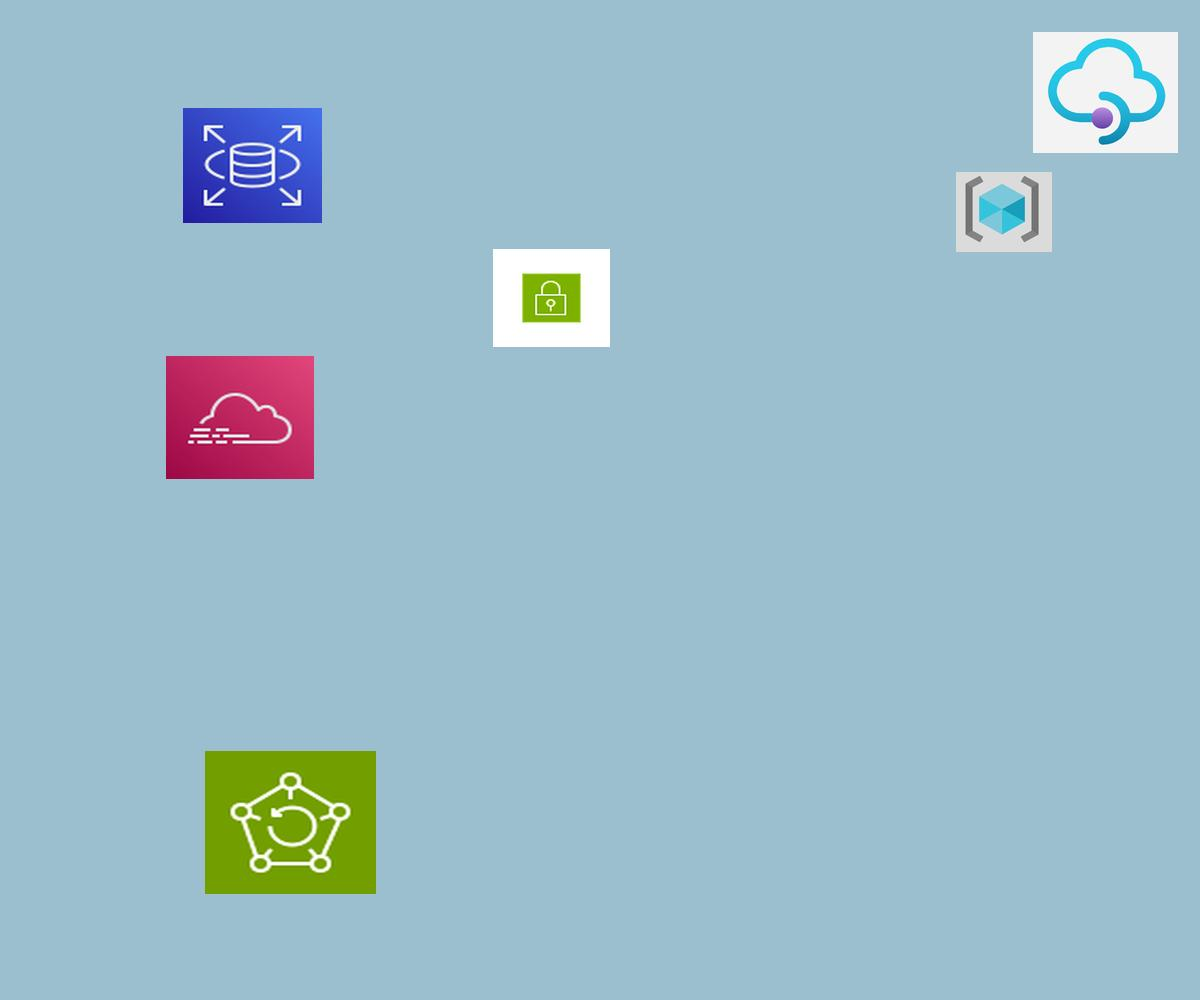AWS-Backup: (205, 751, 376, 894)
AWS-CloudTrail: (166, 356, 314, 479)
AWS-Public-subnet: (493, 249, 610, 347)
AWS-RDS: (183, 108, 322, 223)
Azure_api_gateway: (1033, 32, 1178, 153)
Azure_resource_group: (956, 172, 1052, 252)
